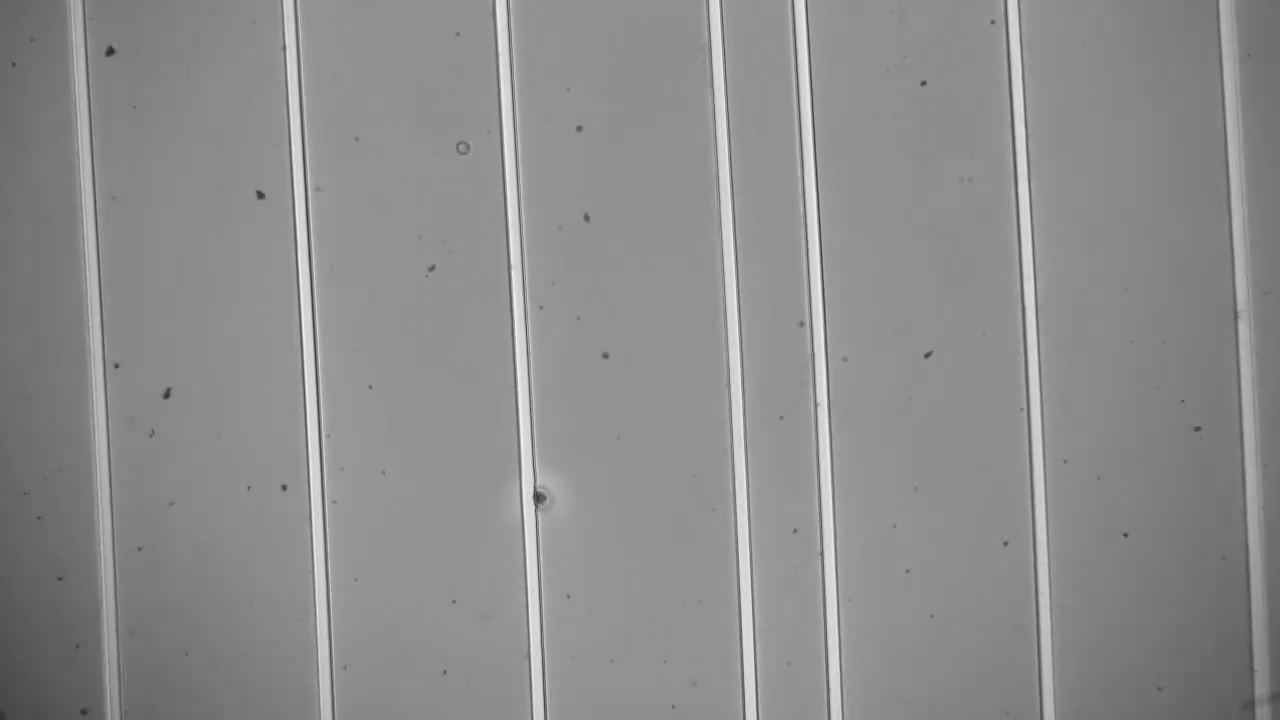stains_enbedded: (514, 475, 554, 524)
